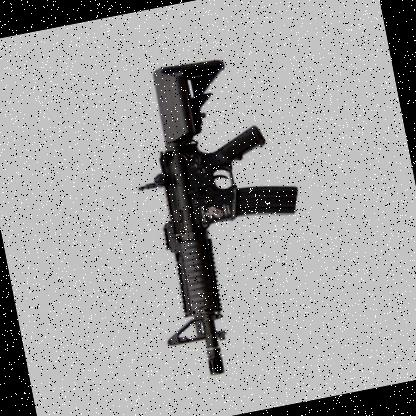rifle: (101, 41, 336, 388)
